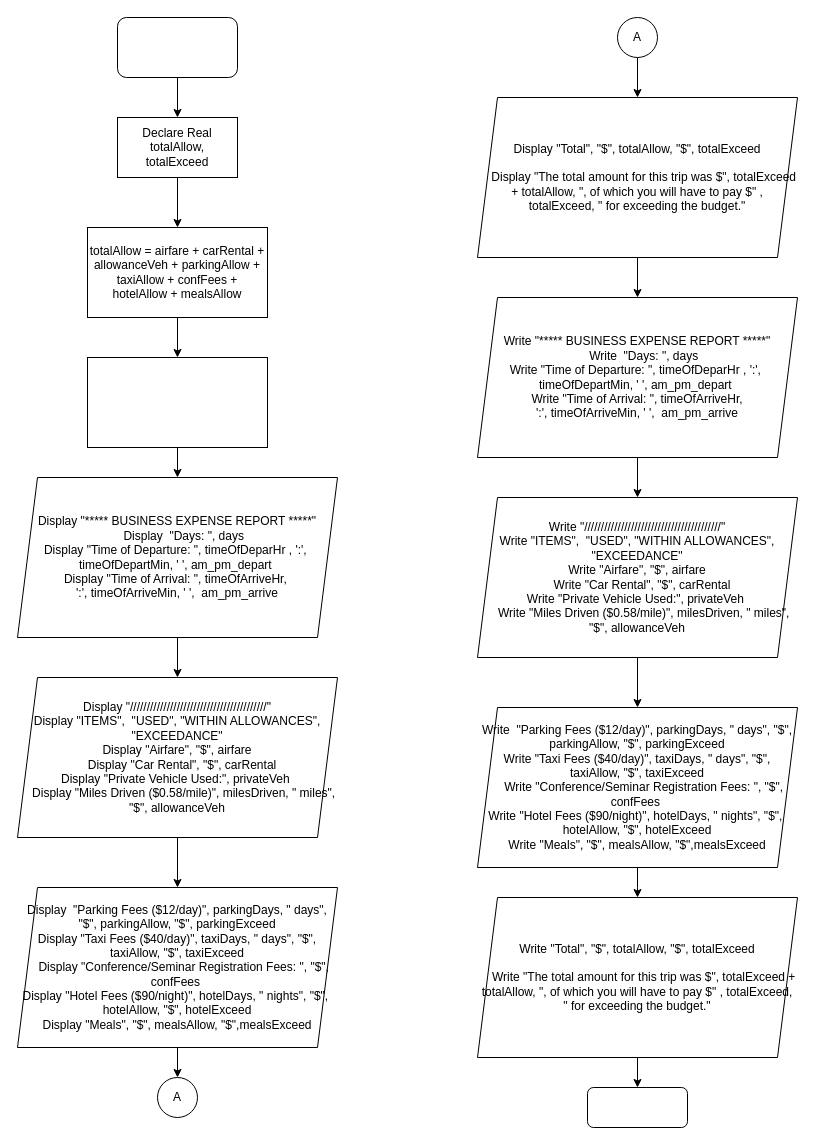
Some shapes in this 815 by 1145 pixel diagram are drawn without their labels. The shapes that lost their labels are listed below. From the top down, each one's box as (x1, y1, x2, y2) in pixels, then its label:
(116, 16, 238, 78): printResult
(86, 356, 268, 448): totalExceed = parkingExceed + taxiExceed + hotelExceed + mealsExceed
(586, 1086, 688, 1128): END FUNCTION
